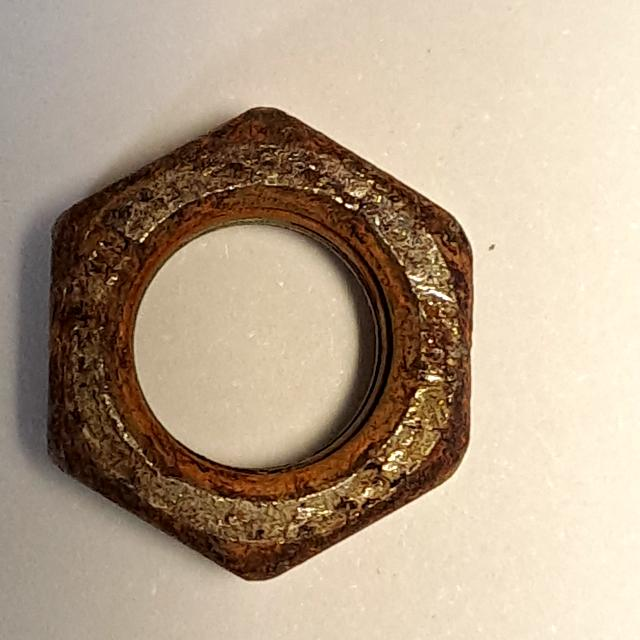Rust: (32, 87, 486, 597)
